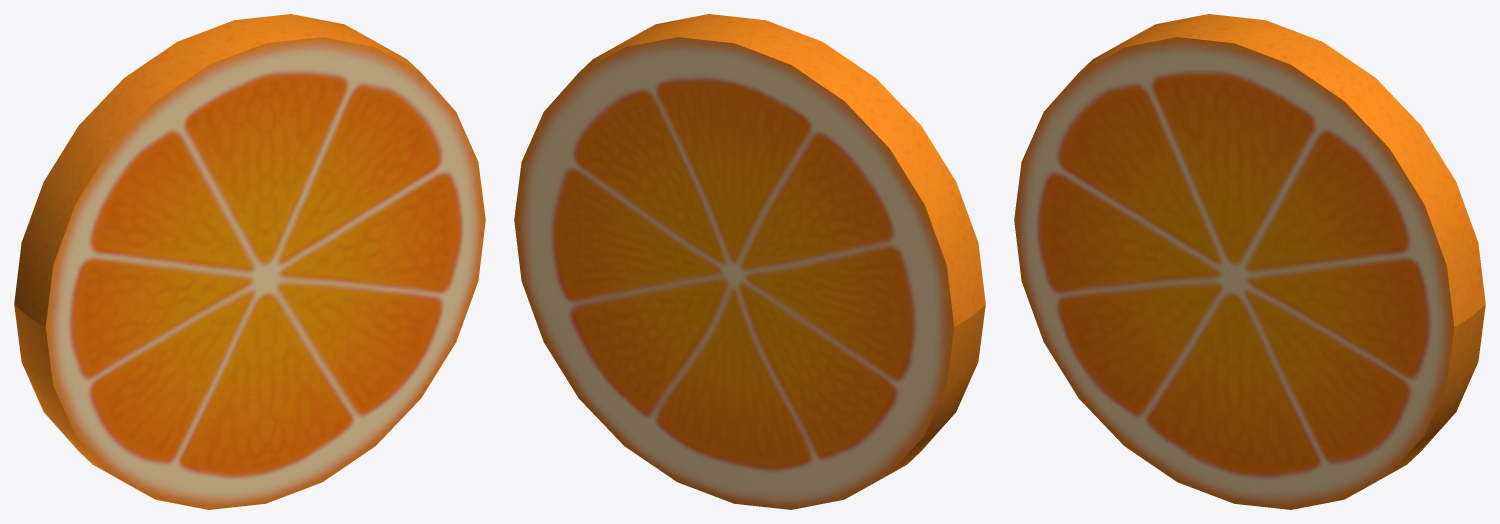
Rendered from OrangeSlice_1.fbx.
3 renders of one model, left to right at view 1: azimuth 30°, elevation 25°; view 2: azimuth 150°, elevation 25°; view 3: azimuth 330°, elevation 25°, orthographic.
Parts seen in each view (by area): view 1: OrangeSlice_1; view 2: OrangeSlice_1; view 3: OrangeSlice_1.
Boxes of the visible parts, x1=… form: OrangeSlice_1: x1=14, y1=14, x2=485, y2=509; OrangeSlice_1: x1=514, y1=14, x2=985, y2=509; OrangeSlice_1: x1=1014, y1=14, x2=1485, y2=509.
Bounding box in the file's own units: 0.0699 × 0.0699 × 0.00883.
Materials: 1 (1 with a texture image).
